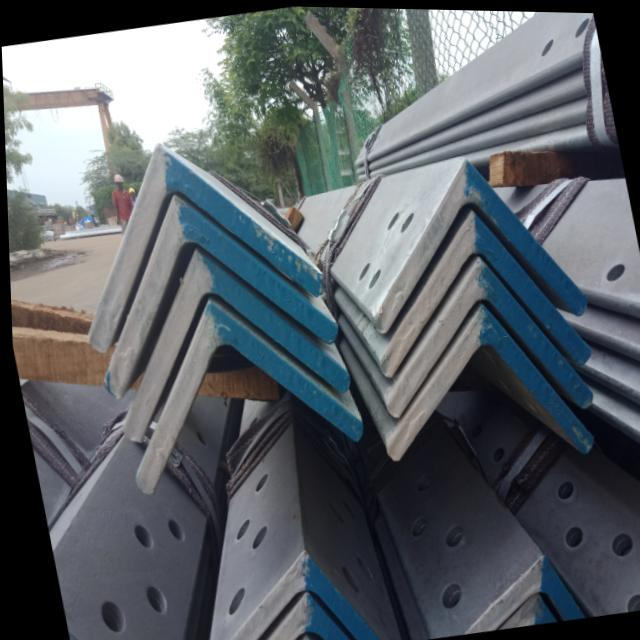metal-angles: (86, 143, 321, 353), (101, 192, 337, 399), (120, 247, 348, 442), (133, 299, 360, 494), (371, 156, 585, 332), (377, 207, 589, 375), (382, 255, 590, 415), (383, 303, 591, 459), (225, 548, 377, 640), (460, 553, 581, 631), (261, 589, 349, 640)
